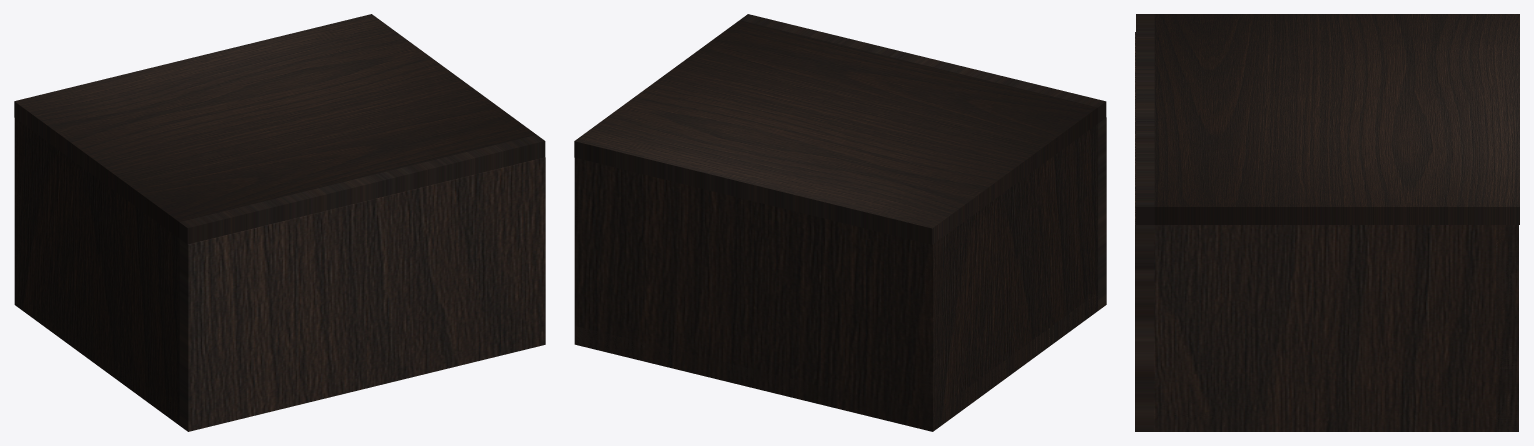
3 views of the same model, side by side, from view 1: azimuth 30°, elevation 25°; view 2: azimuth 150°, elevation 25°; view 3: azimuth 270°, elevation 25° (orthographic). The views are drawn at different scales.
Visible parts, largest first — view 1: Cube, 平面; view 2: Cube, 平面; view 3: 平面, Cube.
Part boxes in pixels (left/top/right/bottom): Cube: left=14, top=118, right=545, bottom=431; 平面: left=14, top=14, right=545, bottom=244; Cube: left=574, top=117, right=1106, bottom=431; 平面: left=574, top=14, right=1106, bottom=244; 平面: left=1136, top=14, right=1519, bottom=224; Cube: left=1135, top=32, right=1518, bottom=431.
Size of the model in its own units: 2 by 1.09 by 1.69.
Materials: 1 (1 with a texture image).
